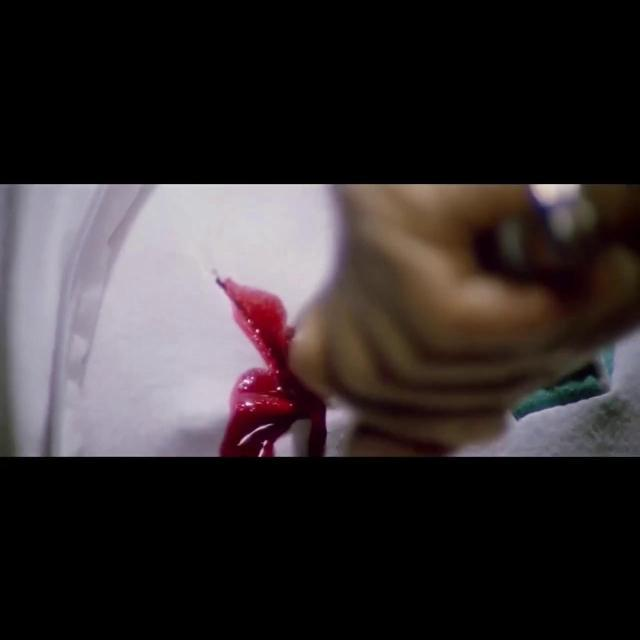blood: (216, 277, 327, 457)
